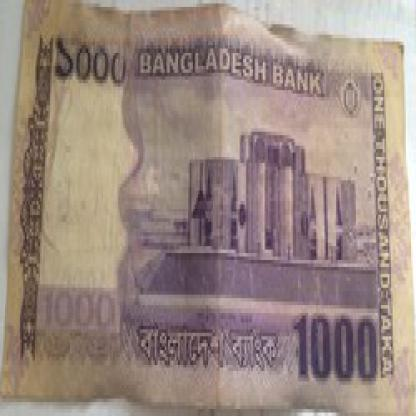One Thousand taka: (288, 312, 379, 392), (53, 35, 128, 97), (40, 284, 121, 336)
